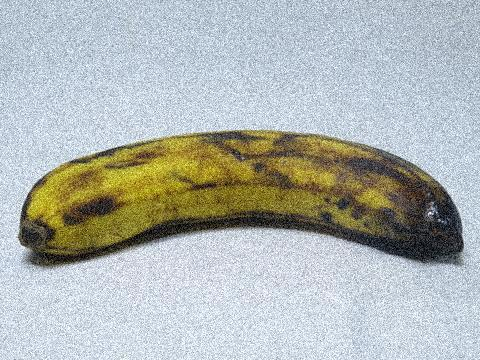overripe: (10, 123, 479, 276)
